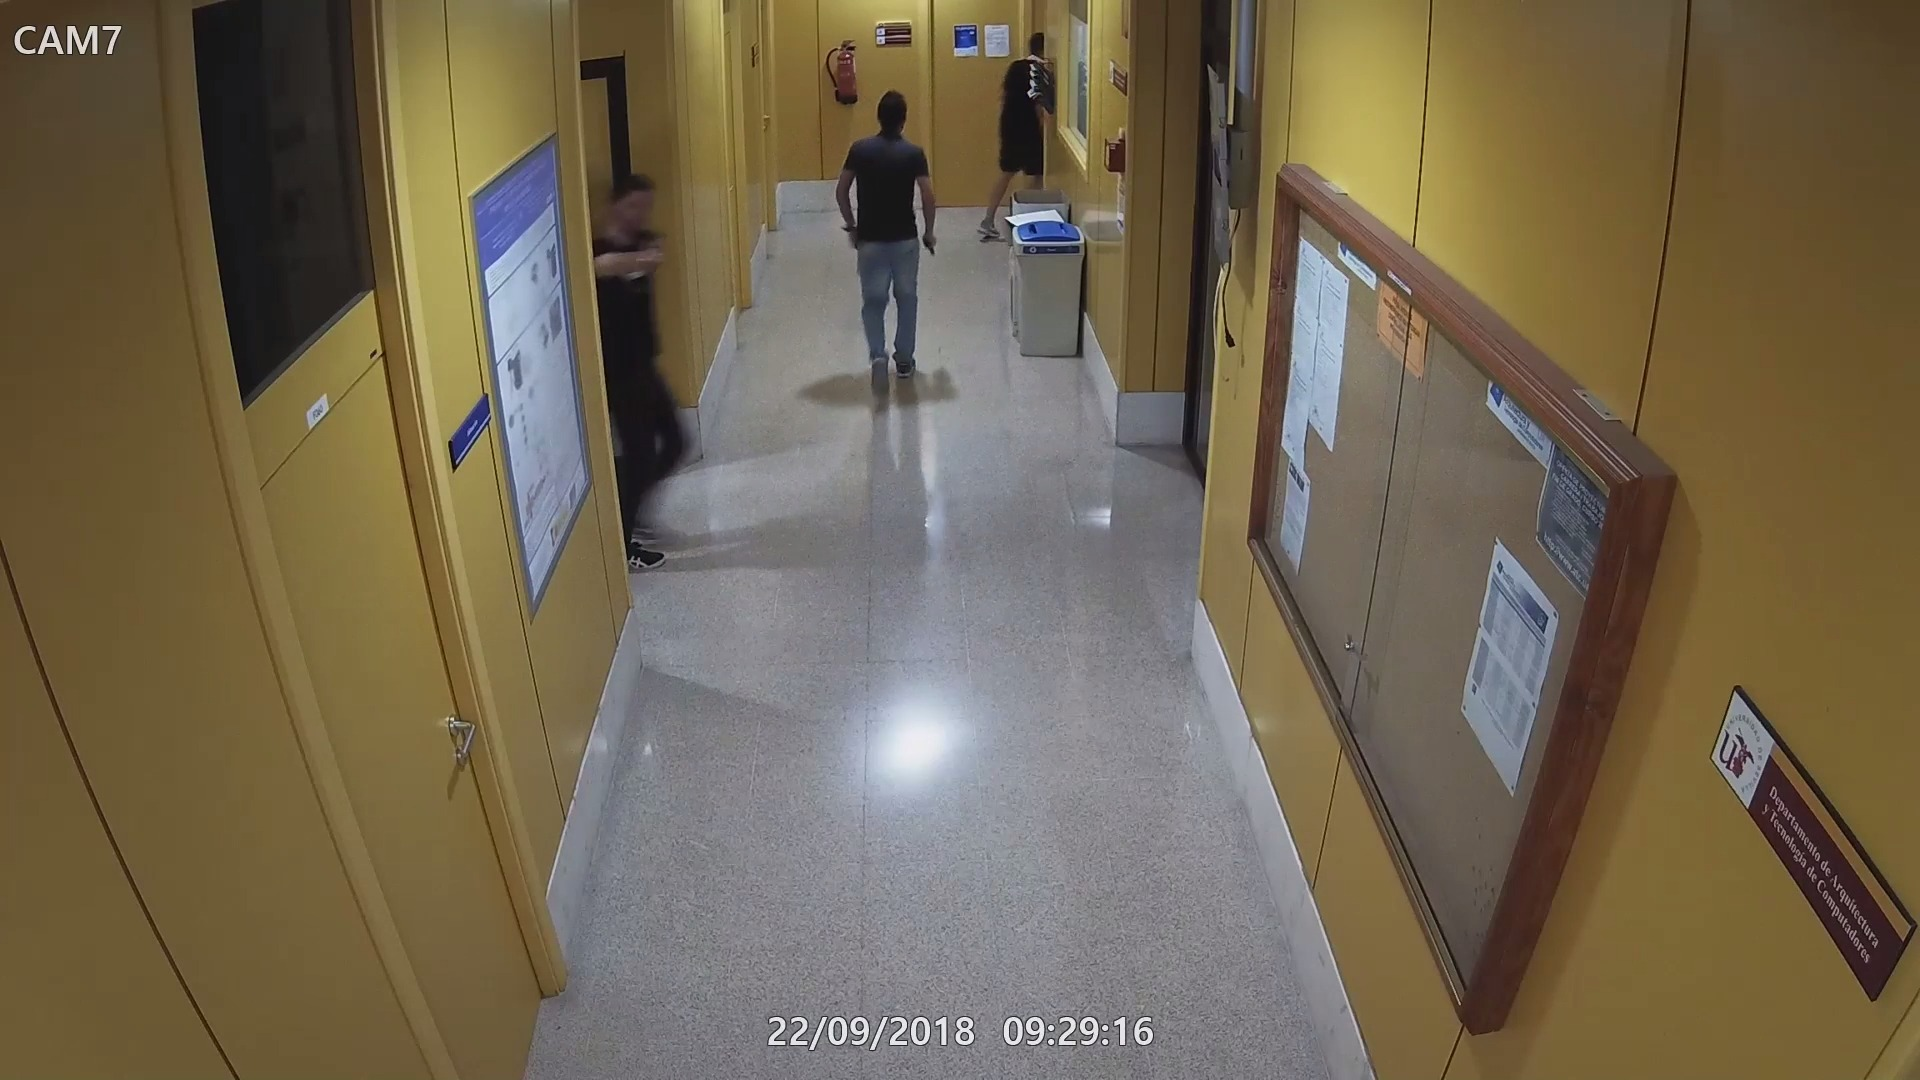Handgun: (628, 225, 670, 253), (915, 231, 936, 256)
